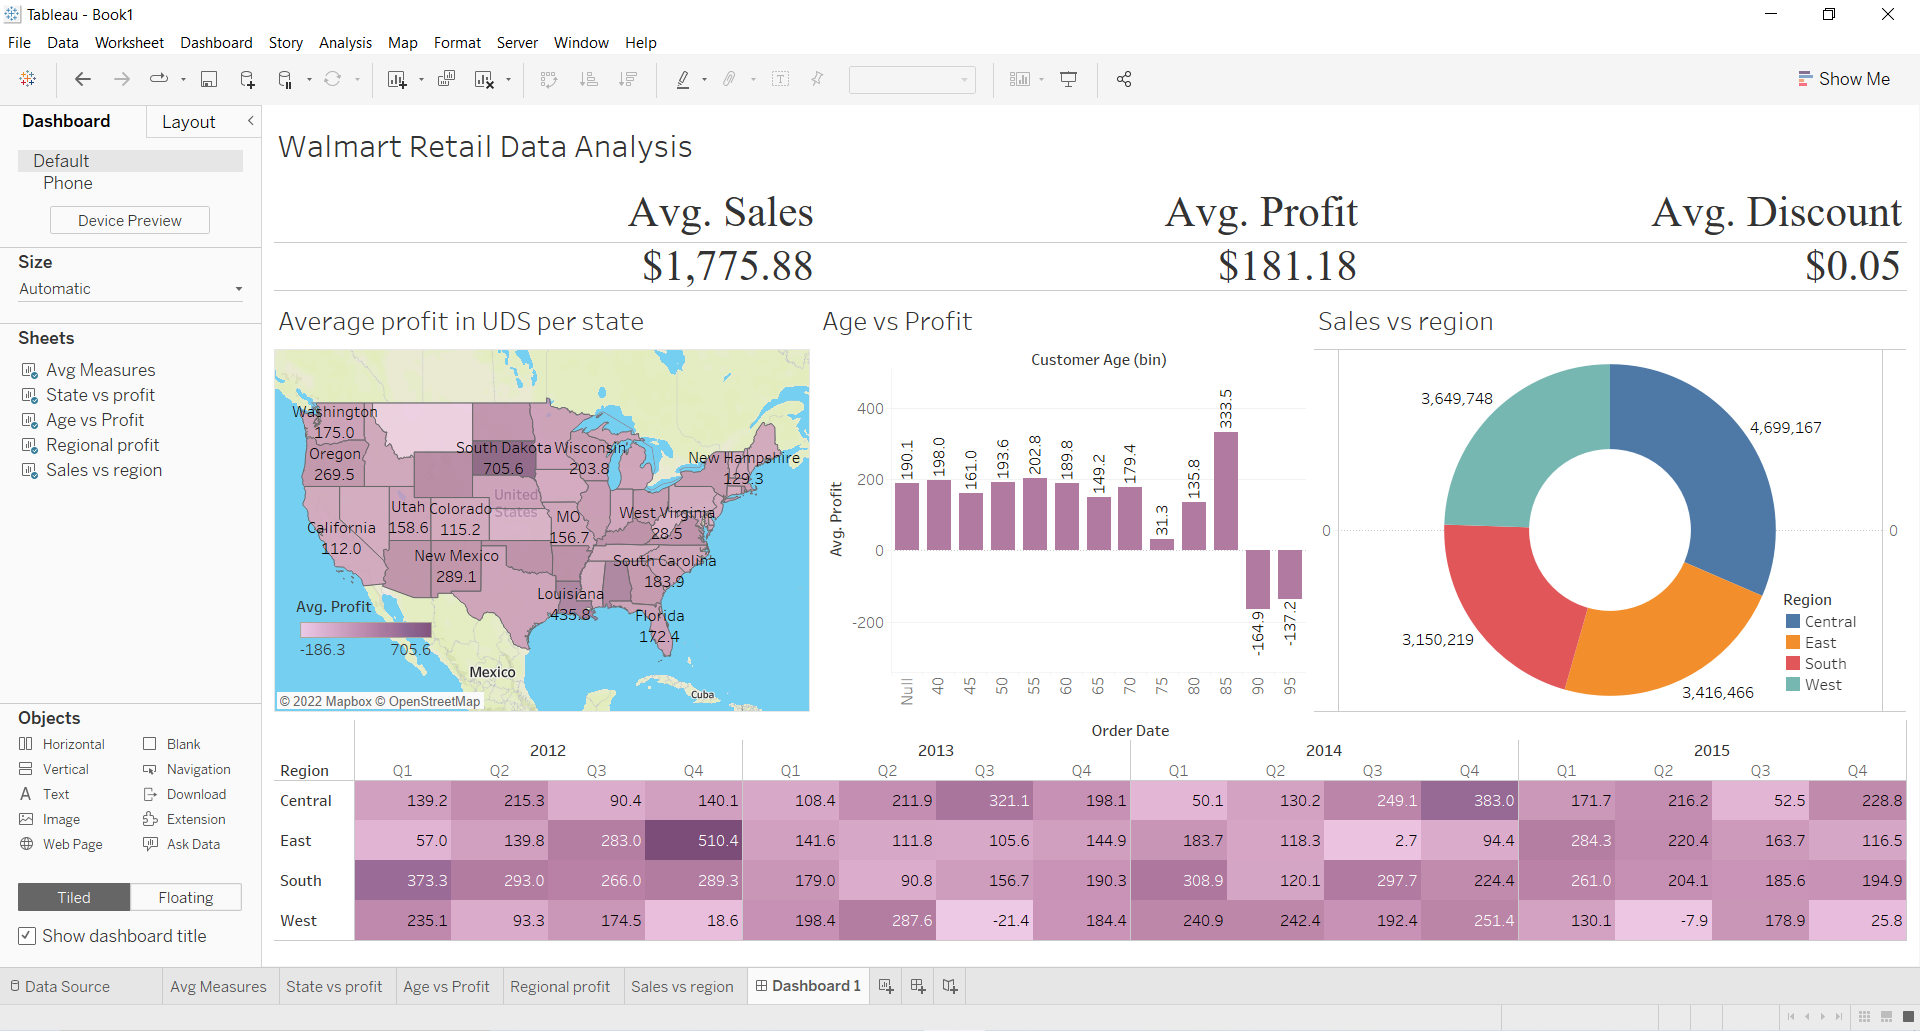

Layout of this report page (visuals, bound fields, positions):
{"tool":"tableau","page":{"name":"Dashboard 1","canvas":[1000,1000],"units":"permille","ordinal":0},"visuals":[{"type":"title","box":[4.8,9.3,990.3,75.5]},{"type":"worksheet","title":"Avg Measures","mark":"Automatic","box":[4.8,84.8,990.3,135.9]},{"type":"worksheet","title":"State vs profit","mark":"Multipolygon","box":[4.8,220.7,328.3,489]},{"type":"worksheet","title":"Age vs Profit","mark":"Automatic","rows":["Profit"],"cols":["Customer Age (bin)"],"box":[333.1,220.7,299.3,489]},{"type":"worksheet","title":"Sales vs region","mark":"Pie","rows":["Calculation_484136991876780032","Calculation_484136991876780032"],"box":[632.5,220.7,362.7,489]},{"type":"legend","title":"State vs profit","param":"[federated.0sflm5f1m4nbi610l6hew0d51a9f].[avg:Profit:qk]","box":[20.5,570.3,84.5,102.2]},{"type":"worksheet","title":"Regional profit","mark":"Square","rows":["Region"],"cols":["Order Date","Order Date"],"box":[4.8,709.6,990.3,281.1]}]}

Visuals, with their boxes on the dashboard's canvas, which has no fixed pixel size, in thousandths of its width and height (x1, y1, x2, y2). These are canvas units, not pixel positions in the 1920x1031 screenshot, which may show the page scaled, cropped or inside an application window:
title: box(5, 9, 995, 85)
"Avg Measures" worksheet: box(5, 85, 995, 221)
"State vs profit" worksheet (Multipolygon marks): box(5, 221, 333, 710)
"Age vs Profit" worksheet: box(333, 221, 632, 710)
"Sales vs region" worksheet (Pie marks): box(632, 221, 995, 710)
"State vs profit" legend: box(20, 570, 105, 672)
"Regional profit" worksheet (Square marks): box(5, 710, 995, 991)
